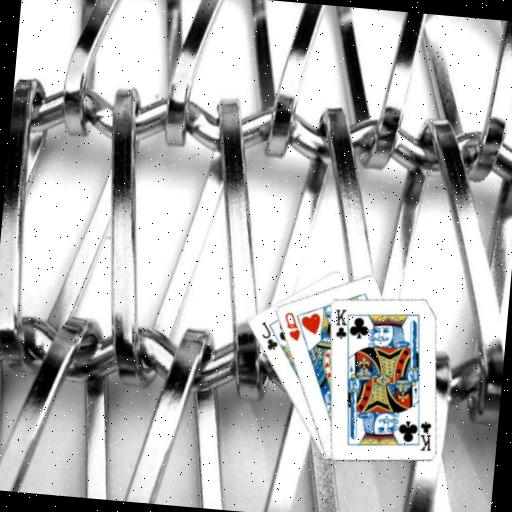JC: (255, 318, 281, 352)
KC: (330, 305, 353, 344), (412, 414, 435, 453)
QH: (279, 309, 303, 343)
